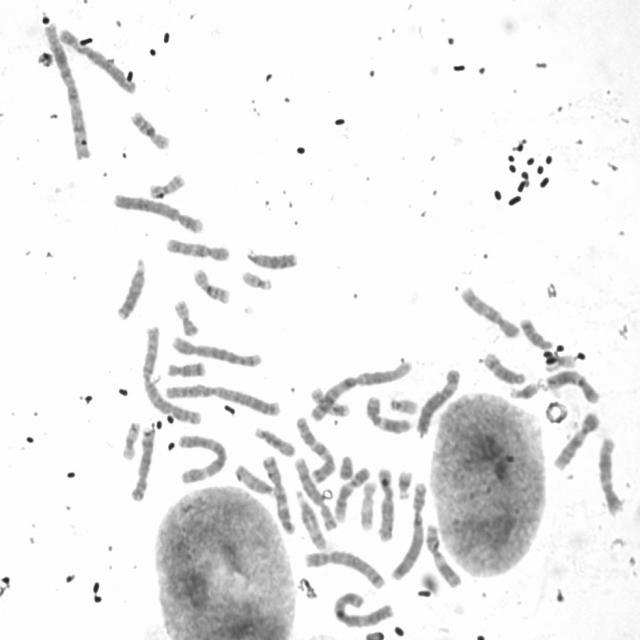A1: (40, 20, 94, 162), (305, 356, 415, 422)
A2: (137, 320, 204, 426), (160, 379, 283, 418)
A3: (174, 430, 228, 486), (329, 587, 396, 629)
B4: (387, 477, 430, 582), (109, 189, 206, 235)
B5: (302, 547, 388, 590), (168, 332, 264, 369)
C10: (457, 282, 522, 340), (162, 234, 232, 263)
C11: (423, 520, 464, 589), (362, 392, 413, 436)
C12: (538, 364, 601, 405), (596, 433, 626, 517)
C6: (56, 23, 139, 95), (413, 364, 463, 437)
C7: (292, 411, 338, 484), (258, 451, 296, 535)
C8: (292, 454, 339, 532), (128, 422, 157, 502)
C9: (550, 408, 602, 471), (332, 463, 372, 523)
D13: (113, 254, 148, 322), (244, 244, 300, 271)
D14: (292, 486, 330, 551), (480, 349, 528, 386)
D15: (250, 423, 297, 458), (232, 460, 276, 497)
E16: (127, 107, 173, 152), (190, 264, 232, 304)
E17: (311, 386, 350, 419), (358, 479, 380, 534), (542, 397, 570, 425)
E18: (517, 314, 555, 350), (163, 357, 207, 378)
F19: (118, 420, 142, 464), (543, 354, 576, 374)
F20: (146, 169, 187, 200), (171, 295, 201, 337)
G21: (507, 378, 541, 401), (396, 468, 416, 502)
G22: (238, 266, 275, 292), (386, 393, 420, 415)
X: (374, 463, 396, 543)
Y: (336, 450, 355, 480)
